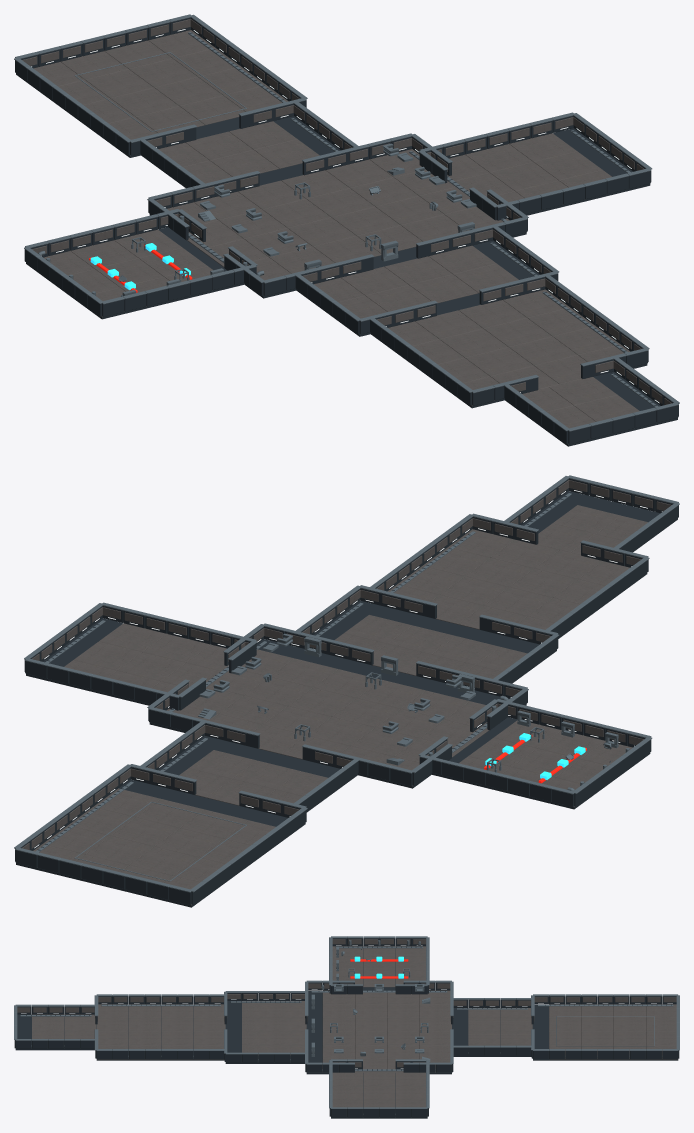
Rendered from boarding_deck.glb.
3 views of the same model, one above another, from view 1: azimuth 30°, elevation 25°; view 2: azimuth 150°, elevation 25°; view 3: azimuth 270°, elevation 25° (orthographic). The views are drawn at different scales.
Parts seen in each view (by area): view 1: rescue_architecture_1, hangar_architecture_1, core_architecture_1, command_architecture_1, cache_architecture_1, engineering_architecture_1, security_architecture_1, rescue_architecture_2, cache_architecture_0, hangar_architecture_0, engineering_architecture_0, rescue_architecture_0 (+12 smaller); view 2: rescue_architecture_1, core_architecture_1, hangar_architecture_1, cache_architecture_1, hangar_architecture_0, command_architecture_1, engineering_architecture_1, rescue_architecture_0, rescue_architecture_2, security_architecture_1, cache_architecture_0, engineering_architecture_0 (+12 smaller); view 3: rescue_architecture_1, hangar_architecture_1, core_architecture_1, engineering_architecture_1, command_architecture_1, cache_architecture_1, hangar_architecture_0, security_architecture_1, rescue_architecture_0, rescue_architecture_2, core_architecture_0, bridge_architecture_1 (+12 smaller).
Part boxes in pixels (x1,y1,x2,y2): rescue_architecture_1: (155,138,520,280); hangar_architecture_1: (22,19,299,139); core_architecture_1: (377,278,641,405); command_architecture_1: (302,229,550,318); cache_architecture_1: (427,117,643,204); engineering_architecture_1: (32,213,249,317); security_architecture_1: (147,105,351,183); rescue_architecture_2: (147,133,528,283); cache_architecture_0: (419,115,651,220); hangar_architecture_0: (15,17,306,157); engineering_architecture_0: (24,212,256,319); rescue_architecture_0: (148,136,527,298); rescue_architecture_1: (155,628,520,786); core_architecture_1: (376,518,641,629); hangar_architecture_1: (22,768,299,905); cache_architecture_1: (32,607,248,694); hangar_architecture_0: (15,767,306,907); command_architecture_1: (302,590,550,678); engineering_architecture_1: (426,703,643,807); rescue_architecture_0: (148,626,527,788); rescue_architecture_2: (147,623,528,773); security_architecture_1: (147,725,351,805); cache_architecture_0: (24,606,256,710); engineering_architecture_0: (419,702,651,809); rescue_architecture_1: (307,983,451,1072); hangar_architecture_1: (534,997,677,1059); core_architecture_1: (96,997,225,1059); engineering_architecture_1: (332,939,425,987); command_architecture_1: (227,994,306,1055); cache_architecture_1: (332,1062,425,1107); hangar_architecture_0: (531,996,679,1060); security_architecture_1: (453,1000,532,1045); rescue_architecture_0: (305,982,453,1074); rescue_architecture_2: (305,980,453,1070); core_architecture_0: (95,996,226,1060); bridge_architecture_1: (17,1007,96,1038).
Bounding box in the file's own units: 50.42 × 2.93 × 82.42.
Materials: 6 (1 with a texture image).
